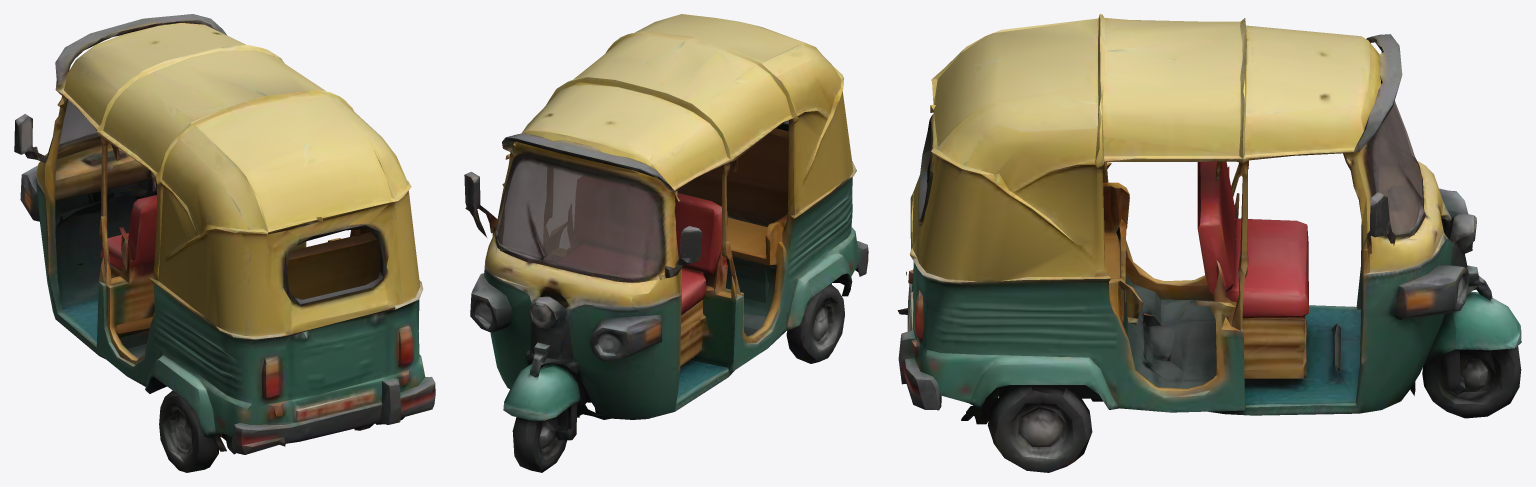
Rendered from auto.glb.
3 renders of one model, left to right at view 1: azimuth 30°, elevation 25°; view 2: azimuth 150°, elevation 25°; view 3: azimuth 270°, elevation 25°, orthographic. The views are drawn at different scales.
Parts seen in each view (by area): view 1: Autorickshaw; view 2: Autorickshaw; view 3: Autorickshaw.
Boxes of the visible parts, x1,y1,x2,y2 form: Autorickshaw: (14,14,435,472); Autorickshaw: (464,14,868,472); Autorickshaw: (897,14,1521,472).
Bounding box in the file's own units: 1.28 × 1.63 × 2.47.
1 material, 1 textured.
